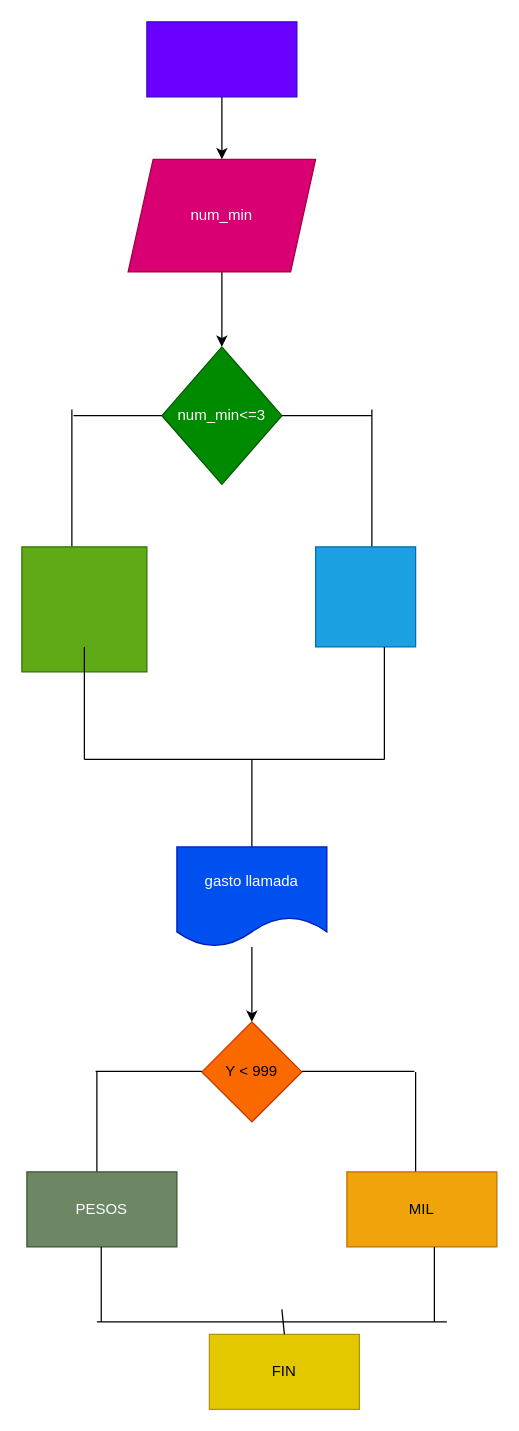
This 519x1431 diagram has some shape labels left out. Each missing label, with the box of its shape:
gasto llamada = 300: (314, 546, 416, 647)
INICIO: (146, 21, 297, 97)
Y =( X * 50 ) + 300 - 150: (21, 546, 147, 672)
